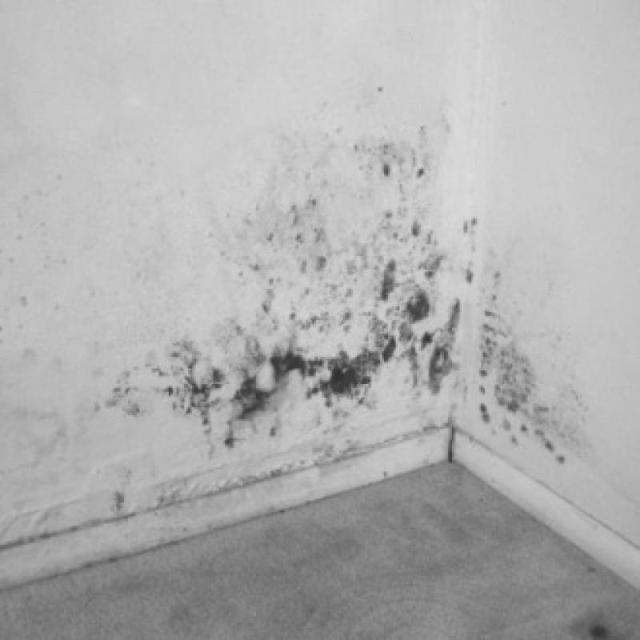stain marks: (53, 63, 594, 532)
